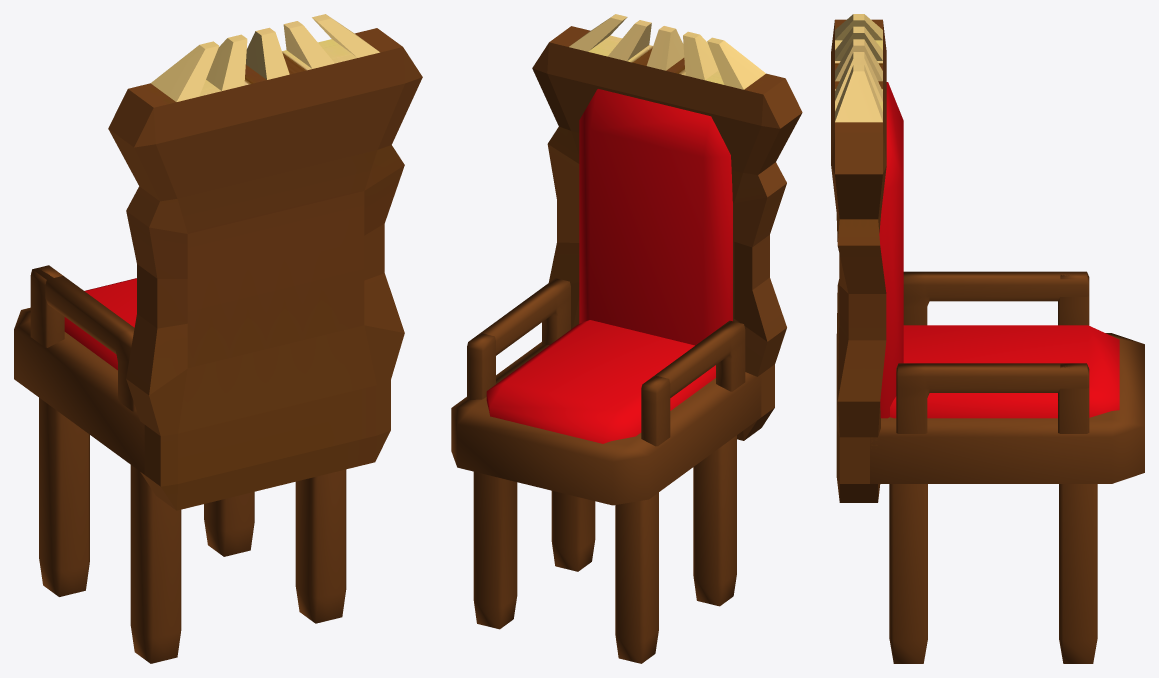
Rendered from Trono.fbx.
3 views of the same model, side by side, from view 1: azimuth 30°, elevation 25°; view 2: azimuth 150°, elevation 25°; view 3: azimuth 270°, elevation 25° (orthographic). The views are drawn at different scales.
Visible parts, largest first — view 1: Respaldo, Asiento, AlmohadaAbajo; view 2: Asiento, Respaldo, AlmohadaArriba, AlmohadaAbajo; view 3: Asiento, Respaldo, AlmohadaAbajo, AlmohadaArriba.
Boxes of the visible parts, <box> form: Respaldo: <box>108,14,422,510</box>; Asiento: <box>14,265,346,663</box>; AlmohadaAbajo: <box>64,278,136,370</box>; Asiento: <box>451,278,761,663</box>; Respaldo: <box>532,14,802,440</box>; AlmohadaArriba: <box>579,89,732,345</box>; AlmohadaAbajo: <box>486,320,715,443</box>; Asiento: <box>870,271,1144,663</box>; Respaldo: <box>831,14,886,502</box>; AlmohadaAbajo: <box>890,325,1119,418</box>; AlmohadaArriba: <box>879,82,903,418</box>.
Size of the model in its own units: 702 by 1447 by 712.
3 materials, 1 textured.
